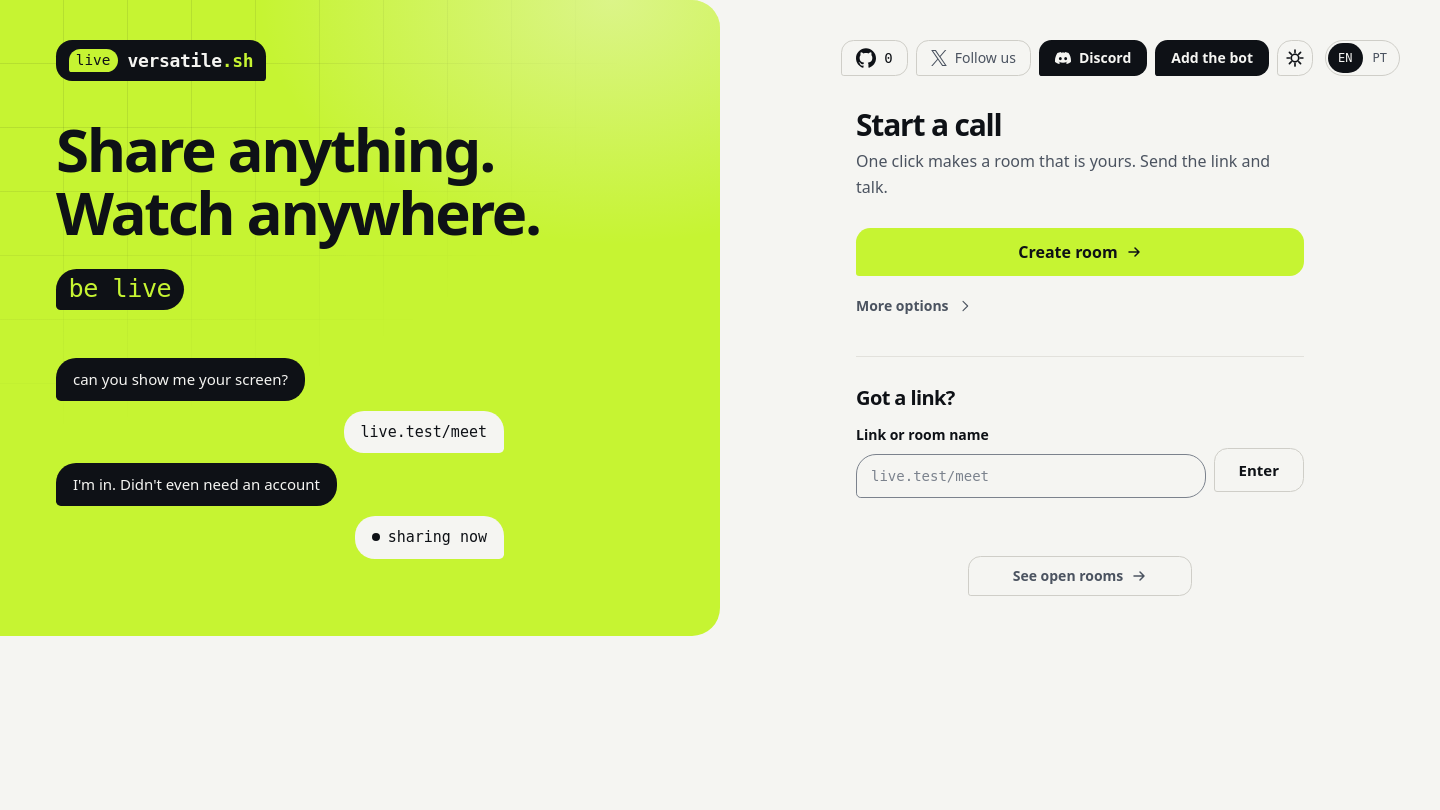
HomePage › More options › start closed and open on a click, with the room's name and who may enter
Click the button "More options": [914, 306] box [840,288,989,324]
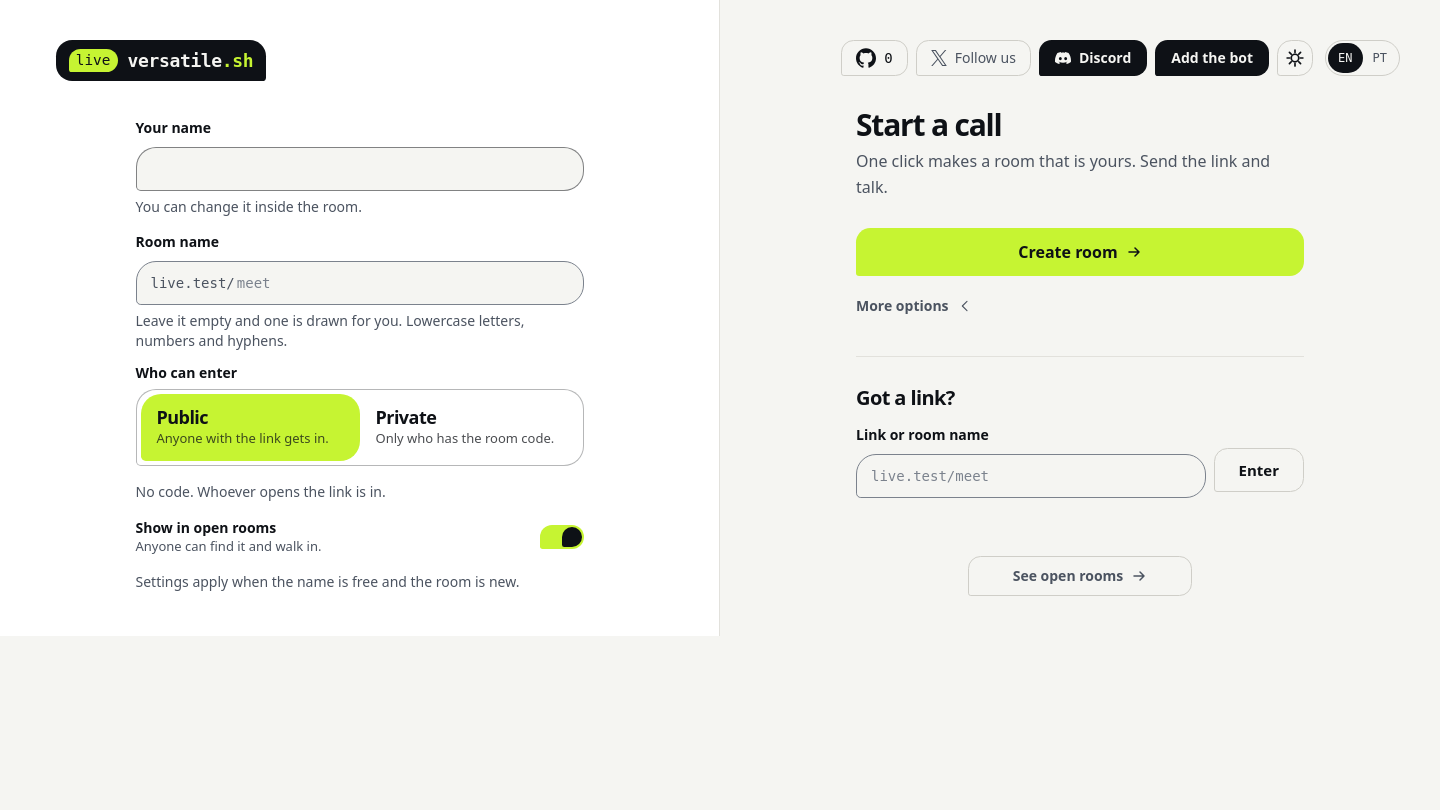
Now the button "More options" is expanded, box [840,288,989,324]
Now the radio button labelled "Public Anyone with the link gets in." is checked, box [156,405,329,447]
